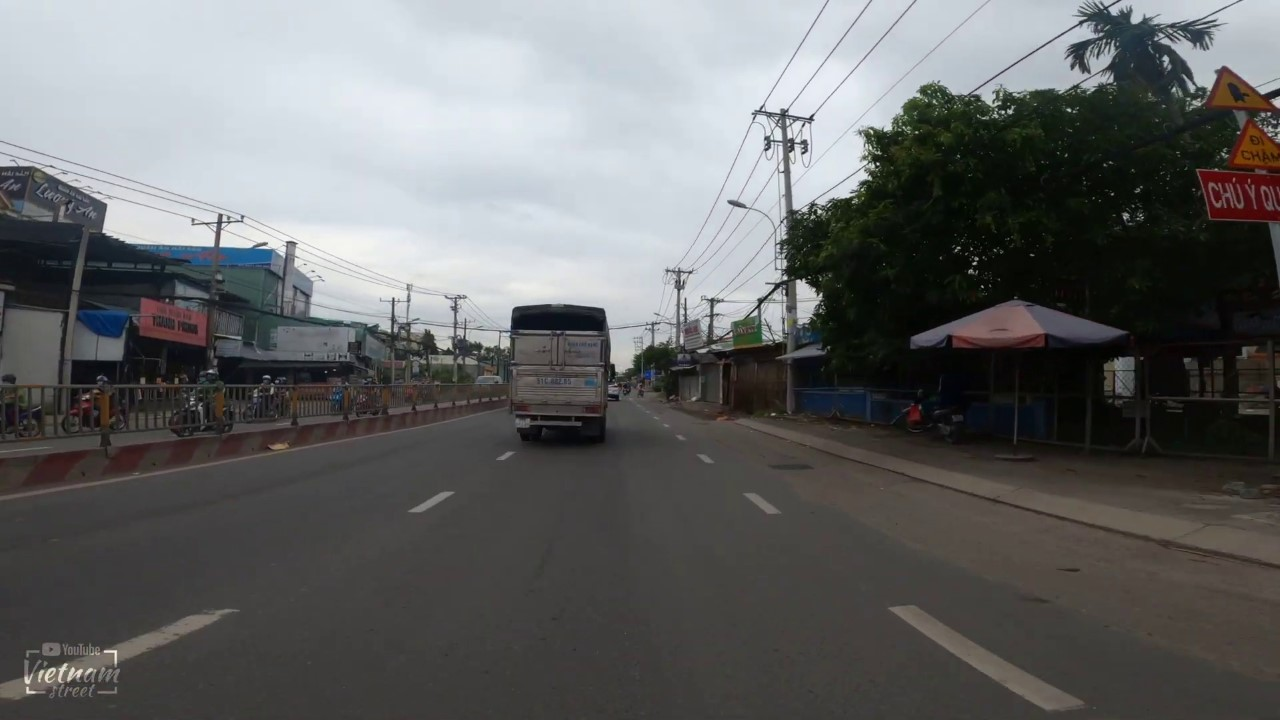giao_khong_uu_tien_phai: (1202, 64, 1278, 113)
